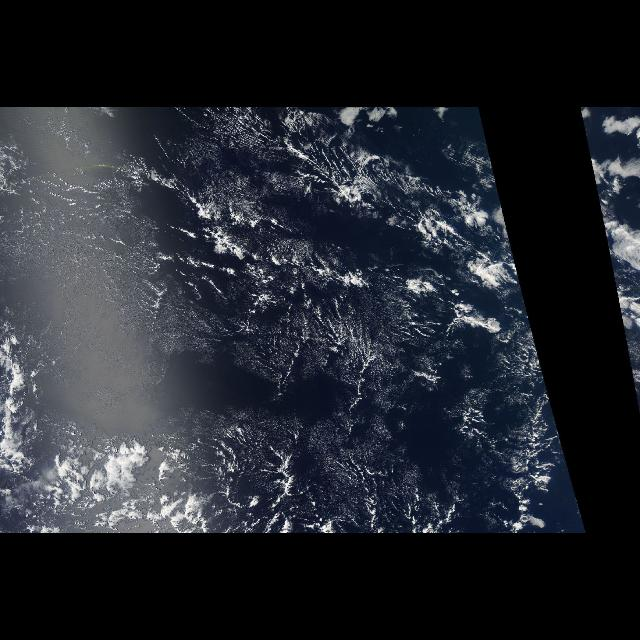Gravel: (180, 115, 504, 533)
Sugar: (23, 122, 420, 402)
